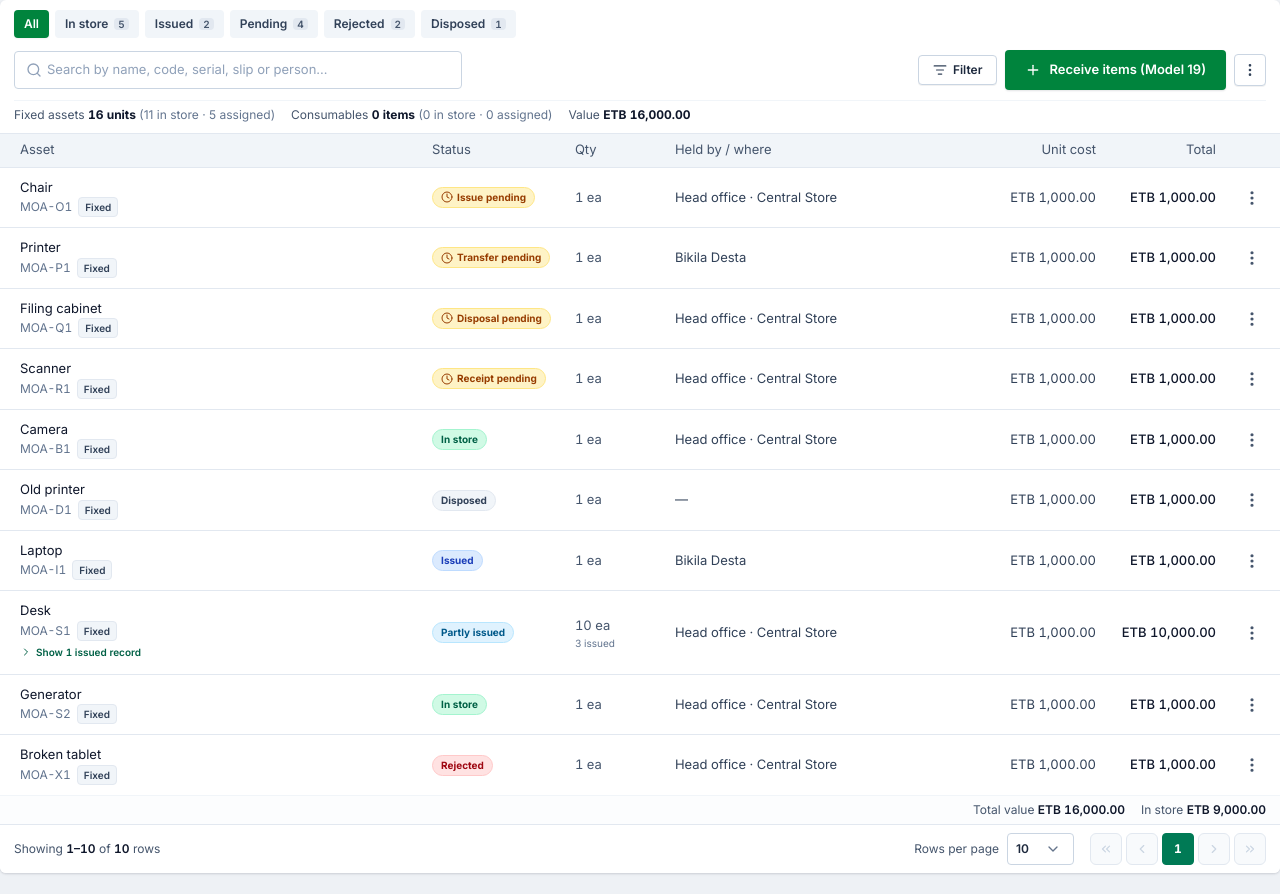
Scenario: Assets page › shows a partly issued batch as one row, with its issued units underneath
Expected: the text "MOA-S1" is shown, x1=20 y1=623 x2=71 y2=639
Expected: the row named "Open MOA-S1" shows "Partly issued", x1=441 y1=626 x2=505 y2=638
Click the button "Show 1 issued record" at (80, 652), box x1=20 y1=645 x2=141 y2=660
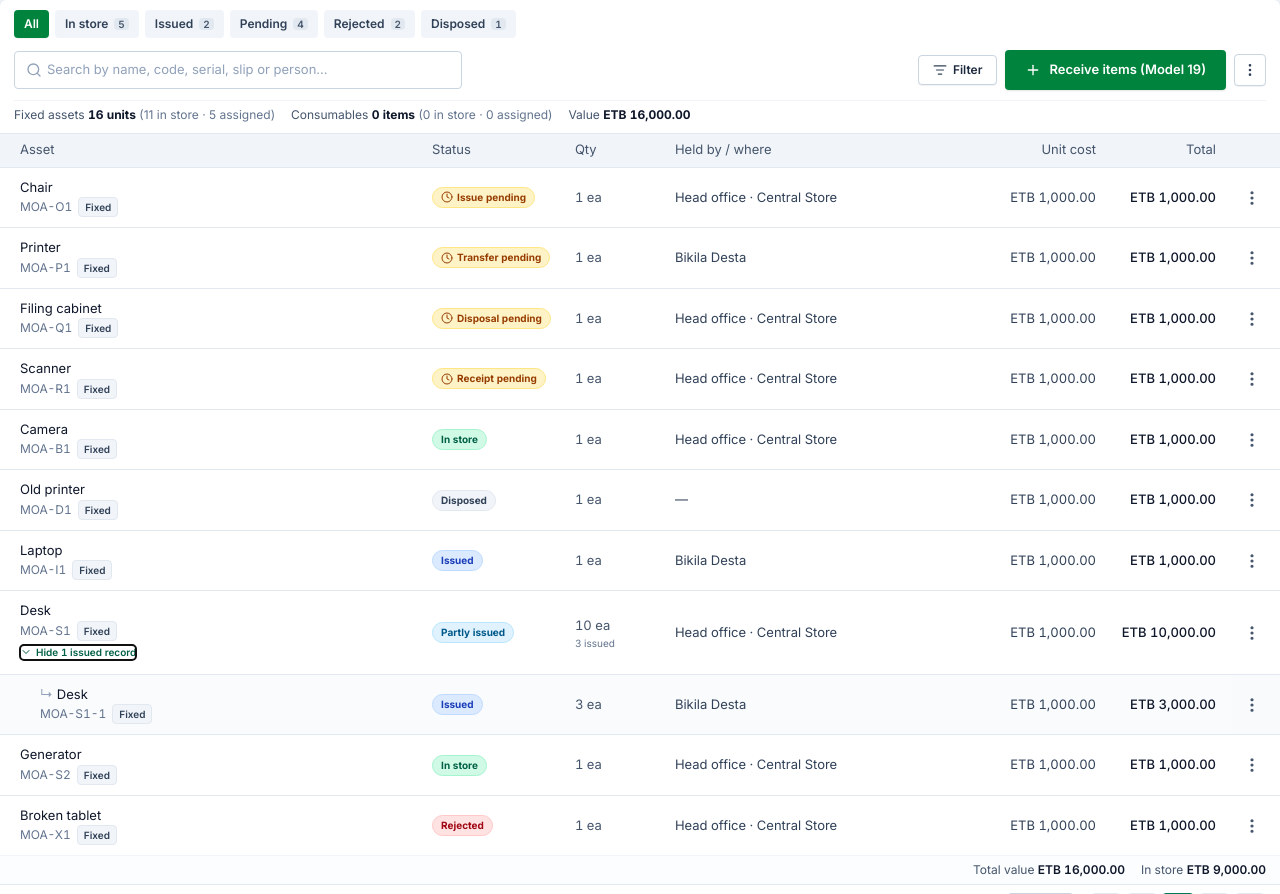
Expected: the row named "Open MOA-S1-1" shows "Issued", x1=441 y1=698 x2=474 y2=710
Expected: the row named "Open MOA-S1-1" shows "Bikila Desta", x1=675 y1=696 x2=746 y2=712
Click the button "Hide 1 issued record" at (78, 652), box x1=20 y1=645 x2=136 y2=660
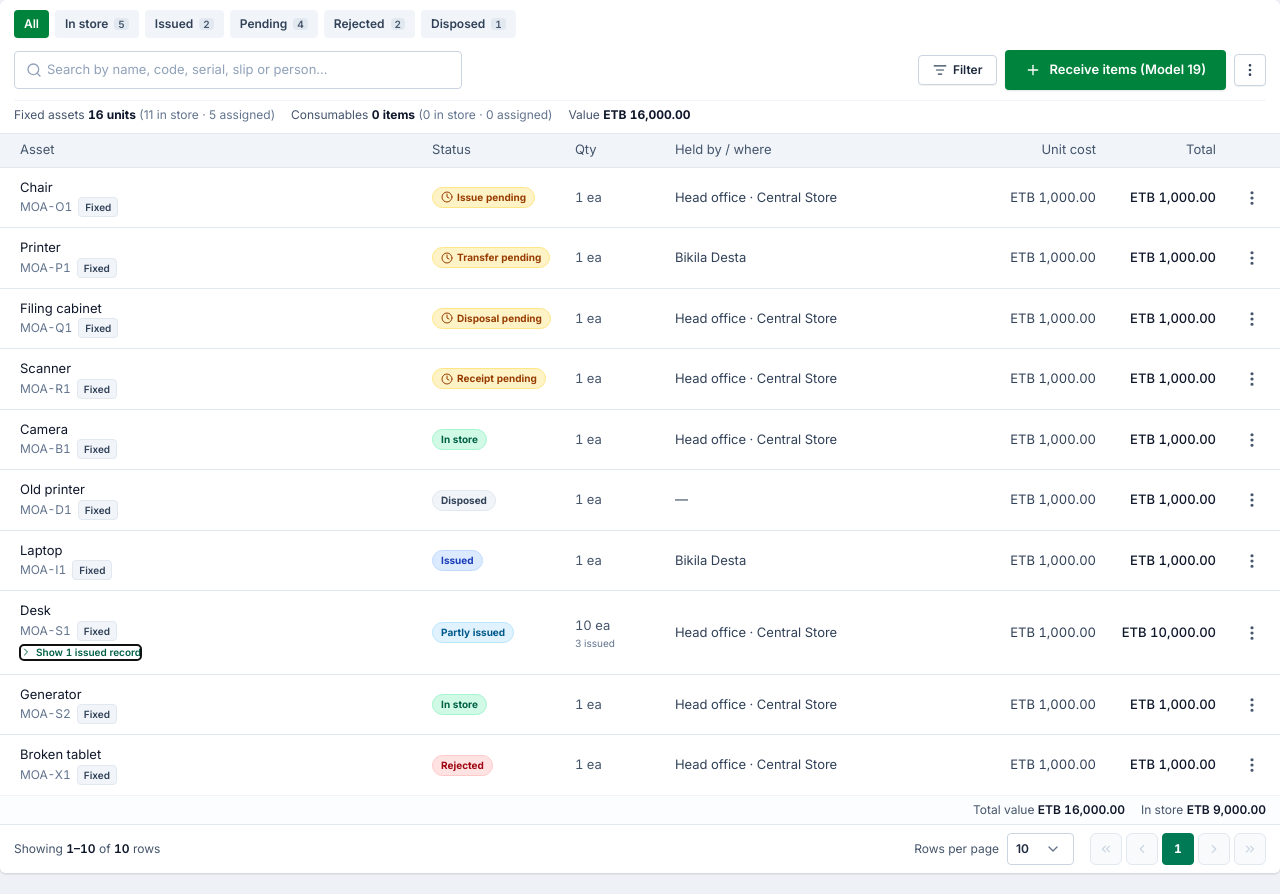
Expected: the text "MOA-S1-1" is gone
